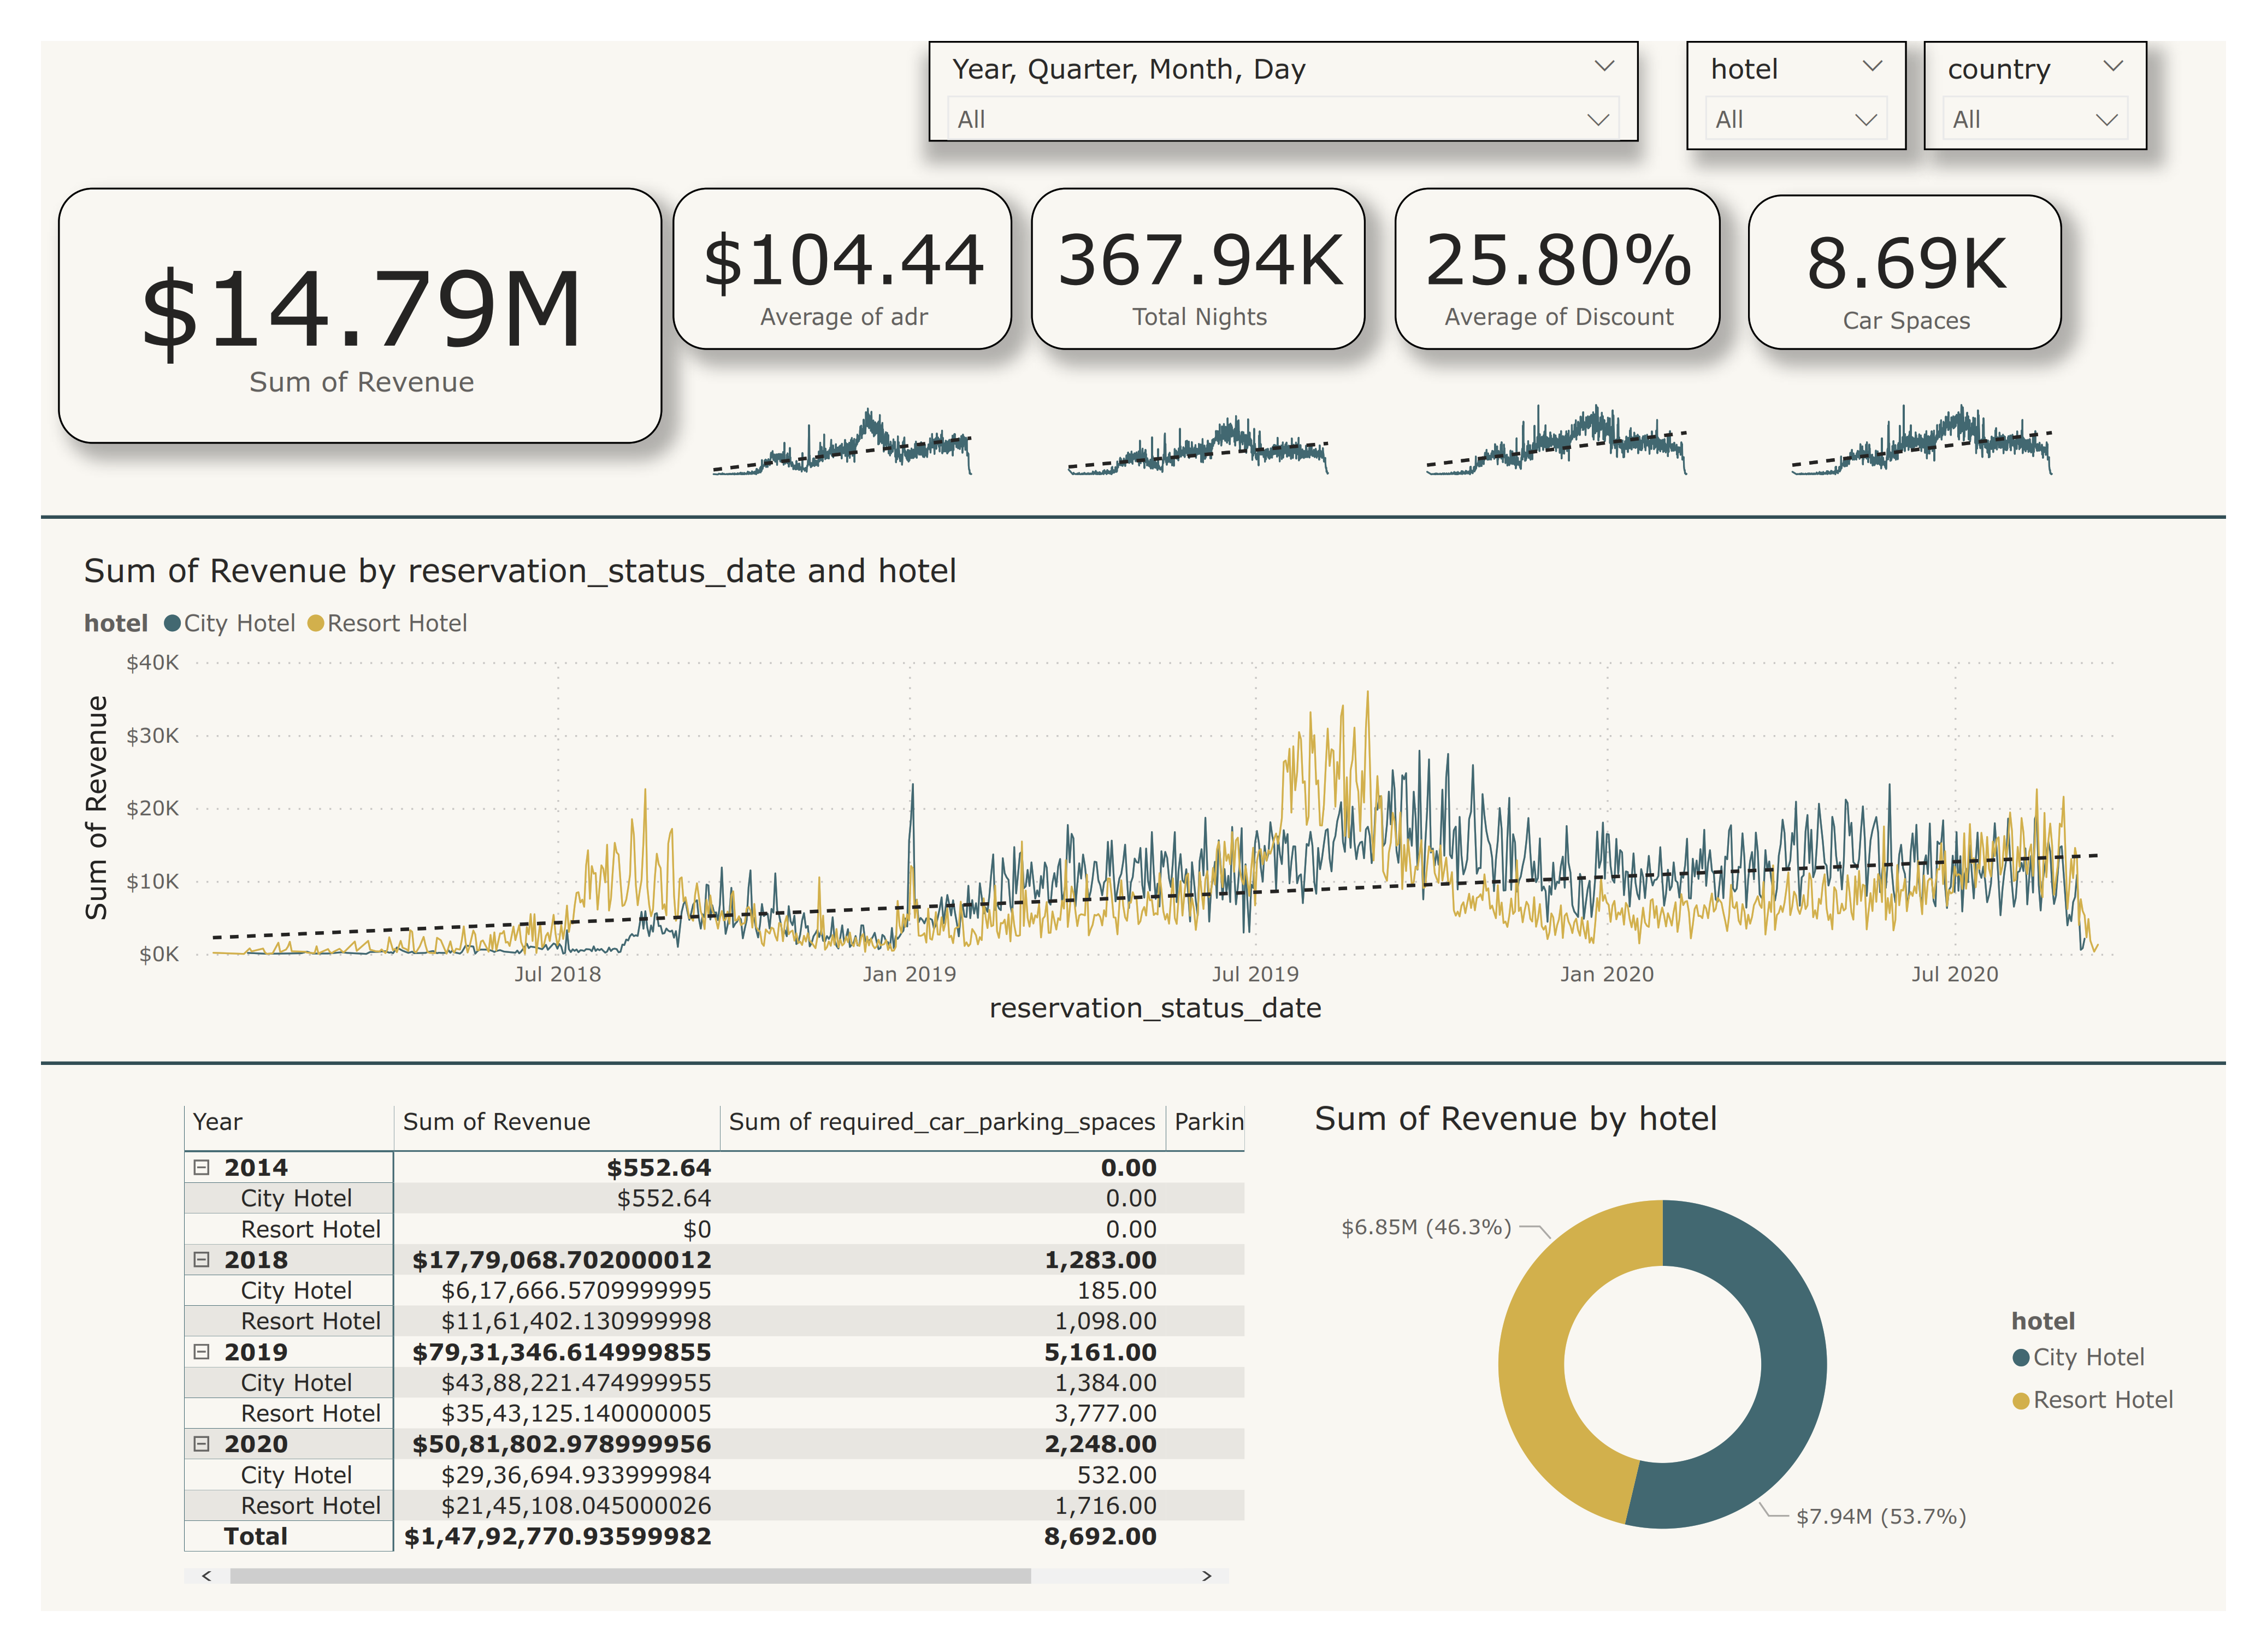

What the dashboard file says about the page in this screenshot:
{"tool":"powerbi","page":{"name":"Page 1","canvas":[1280,920],"ordinal":0},"visuals":[{"type":"shape","box":[0,260,1280,38],"z":0},{"type":"shape","box":[0,580,1280,38],"z":1},{"type":"card","fields":{"Values":["Sum(Query1.Revenue)"]},"box":[10,85.7,354.3,150],"z":2},{"type":"card","fields":{"Values":["Avg(Query1.adr)"]},"box":[370,85.7,198.6,95.7],"z":3},{"type":"card","fields":{"Values":["Query1.Total Nights"]},"box":[580,85.7,195.7,95.7],"z":4},{"type":"card","fields":{"Values":["Avg(Query1.Discount)"]},"box":[792.9,85.7,191.4,95.7],"z":5},{"type":"lineChart","fields":{"Category":["Query1.reservation_status_date"],"Y":["Sum(Query1.Revenue)"],"Series":["Query1.hotel"]},"box":[20,298,1216,282],"z":6},{"type":"slicer","fields":{"Values":["Query1.country"]},"box":[1102.9,0,131.4,64.3],"z":7},{"type":"slicer","fields":{"Values":["Query1.hotel"]},"box":[964.3,0,128.6,64.3],"z":8},{"type":"lineChart","fields":{"Category":["Query1.reservation_status_date"],"Y":["Sum(Query1.adr)"]},"box":[378.6,195.7,181.4,64.3],"z":9},{"type":"lineChart","fields":{"Category":["Query1.reservation_status_date"],"Y":["Query1.Total Nights"]},"box":[587.1,195.7,181.4,64.3],"z":10},{"type":"lineChart","fields":{"Category":["Query1.reservation_status_date"],"Y":["Sum(Query1.Discount)"]},"box":[797.1,195.7,181.4,64.3],"z":11},{"type":"card","fields":{"Values":["Sum(Query1.required_car_parking_spaces)"]},"box":[1000,90,184.3,91.4],"z":12},{"type":"lineChart","fields":{"Category":["Query1.reservation_status_date"],"Y":["Sum(Query1.Discount)"]},"box":[1011.4,195.7,181.4,64.3],"z":13},{"type":"donutChart","fields":{"Category":["Query1.hotel"],"Y":["Sum(Query1.Revenue)"]},"box":[741.4,618.6,522.9,290],"z":14},{"type":"pivotTable","fields":{"Rows":["Query1.reservation_status_date.Variation.Date Hierarchy.Year","Query1.hotel"],"Values":["Sum(Query1.Revenue)","Sum(Query1.required_car_parking_spaces)","Query1.Parking Percentage"]},"box":[78.6,618.6,631.4,290],"z":15},{"type":"slicer","fields":{"Values":["Query1.reservation_status_date.Variation.Date Hierarchy.Year","Query1.reservation_status_date.Variation.Date Hierarchy.Quarter","Query1.reservation_status_date.Variation.Date Hierarchy.Month","Query1.reservation_status_date.Variation.Date Hierarchy.Day"]},"box":[520,0,415.7,58.6],"z":16}]}

Visuals, with their boxes on the page's 1280x920 design canvas (x1, y1, x2, y2). These are canvas units, not pixel positions in the 2267x1652 screenshot, which may show the page scaled, cropped or inside an application window:
shape: crop(0, 260, 1280, 298)
shape: crop(0, 580, 1280, 618)
card - Sum(Query1.Revenue): crop(10, 86, 364, 236)
card - Avg(Query1.adr): crop(370, 86, 569, 181)
card - Query1.Total Nights: crop(580, 86, 776, 181)
card - Avg(Query1.Discount): crop(793, 86, 984, 181)
lineChart - Query1.reservation_status_date x Sum(Query1.Revenue): crop(20, 298, 1236, 580)
slicer - Query1.country: crop(1103, 0, 1234, 64)
slicer - Query1.hotel: crop(964, 0, 1093, 64)
lineChart - Query1.reservation_status_date x Sum(Query1.adr): crop(379, 196, 560, 260)
lineChart - Query1.reservation_status_date x Query1.Total Nights: crop(587, 196, 768, 260)
lineChart - Query1.reservation_status_date x Sum(Query1.Discount): crop(797, 196, 978, 260)
card - Sum(Query1.required_car_parking_spaces): crop(1000, 90, 1184, 181)
lineChart - Query1.reservation_status_date x Sum(Query1.Discount): crop(1011, 196, 1193, 260)
donutChart - Query1.hotel x Sum(Query1.Revenue): crop(741, 619, 1264, 909)
pivotTable - Query1.reservation_status_date.Variation.Date Hierarchy.Year x Query1.hotel: crop(79, 619, 710, 909)
slicer - Query1.reservation_status_date.Variation.Date Hierarchy.Year x Query1.reservation_status_date.Variation.Date Hierarchy.Quarter: crop(520, 0, 936, 59)
